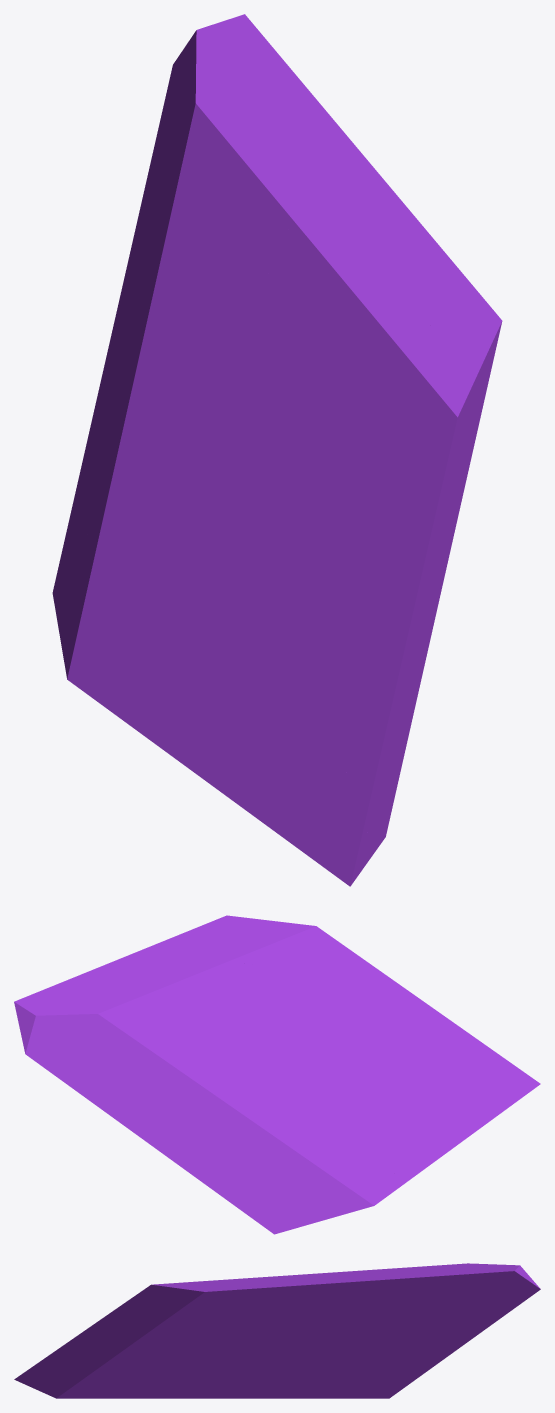
File: Window_55_1_chunks.fbx
The picture shows the model from 3 angles, top to bottom: view 1: azimuth 30°, elevation 25°; view 2: azimuth 150°, elevation 25°; view 3: azimuth 270°, elevation 25°; orthographic projection. The views are drawn at different scales.
Parts seen in each view (by area): view 1: Window_55_1_0, Window_55_1_4, Window_55_1_2, Window_55_1_8, Window_55_1_9, Window_55_1_10, Window_55_1_11, Window_55_1_5, Window_55_1_6, Window_55_1_1, Window_55_1_12, Window_55_1_7; view 2: Window_55_1_0, Window_55_1_2, Window_55_1_4, Window_55_1_9, Window_55_1_10, Window_55_1_8, Window_55_1_1, Window_55_1_11, Window_55_1_6, Window_55_1_5, Window_55_1_12, Window_55_1_7; view 3: Window_55_1_0, Window_55_1_1, Window_55_1_4, Window_55_1_8, Window_55_1_5, Window_55_1_7, Window_55_1_11, Window_55_1_3, Window_55_1_10, Window_55_1_12.
Boxes of the visible parts, box(x1,y1,x2,y2) form: Window_55_1_0: box(59, 14, 314, 565); Window_55_1_4: box(305, 391, 468, 846); Window_55_1_2: box(116, 355, 403, 571); Window_55_1_8: box(286, 97, 502, 328); Window_55_1_9: box(102, 642, 303, 824); Window_55_1_10: box(85, 550, 265, 705); Window_55_1_11: box(266, 689, 399, 886); Window_55_1_5: box(331, 324, 500, 470); Window_55_1_6: box(250, 225, 364, 374); Window_55_1_1: box(52, 490, 135, 692); Window_55_1_12: box(259, 544, 330, 693); Window_55_1_7: box(257, 140, 295, 296); Window_55_1_0: box(14, 978, 296, 1225); Window_55_1_2: box(241, 952, 351, 1155); Window_55_1_4: box(291, 925, 521, 1070); Window_55_1_9: box(393, 1072, 490, 1190); Window_55_1_10: box(327, 1065, 394, 1197); Window_55_1_8: box(72, 915, 251, 983); Window_55_1_1: box(262, 1127, 384, 1234); Window_55_1_11: box(430, 1054, 540, 1119); Window_55_1_6: box(181, 961, 267, 1033); Window_55_1_5: box(233, 916, 308, 989); Window_55_1_12: box(346, 1040, 432, 1086); Window_55_1_7: box(110, 982, 211, 1016); Window_55_1_0: box(327, 1263, 540, 1392); Window_55_1_1: box(174, 1333, 396, 1398); Window_55_1_4: box(26, 1283, 176, 1385); Window_55_1_8: box(201, 1270, 430, 1312); Window_55_1_5: box(155, 1278, 268, 1334); Window_55_1_7: box(267, 1269, 423, 1334); Window_55_1_11: box(14, 1370, 160, 1398); Window_55_1_3: box(172, 1325, 249, 1361); Window_55_1_10: box(154, 1360, 224, 1398); Window_55_1_12: box(133, 1359, 187, 1375).
Size of the model in its own units: 428 by 424 by 989.
